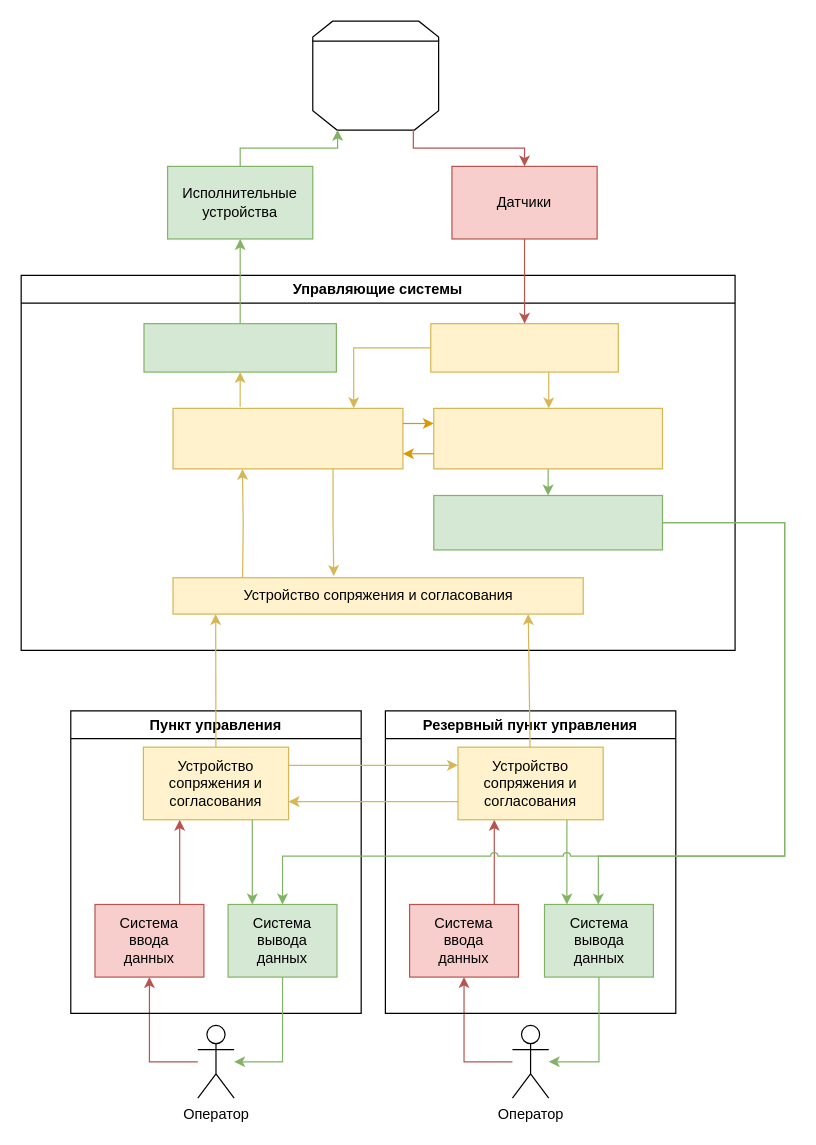
This 816x1145 diagram has some shape labels left out. Here are the shapes that lost their labels. From the top down, the centre of each, then its label:
At (375,85): "Реактор".
At (239,347): "Система связи с объектом управления".
At (524,347): "Система сбора и обработки информации".
At (287,438): "Система контроля и управления реакторного отделения".
At (547,438): "Система контроля состояния безопасности реактора".
At (547,522): "Технологическая и аварийная сигнализация".
